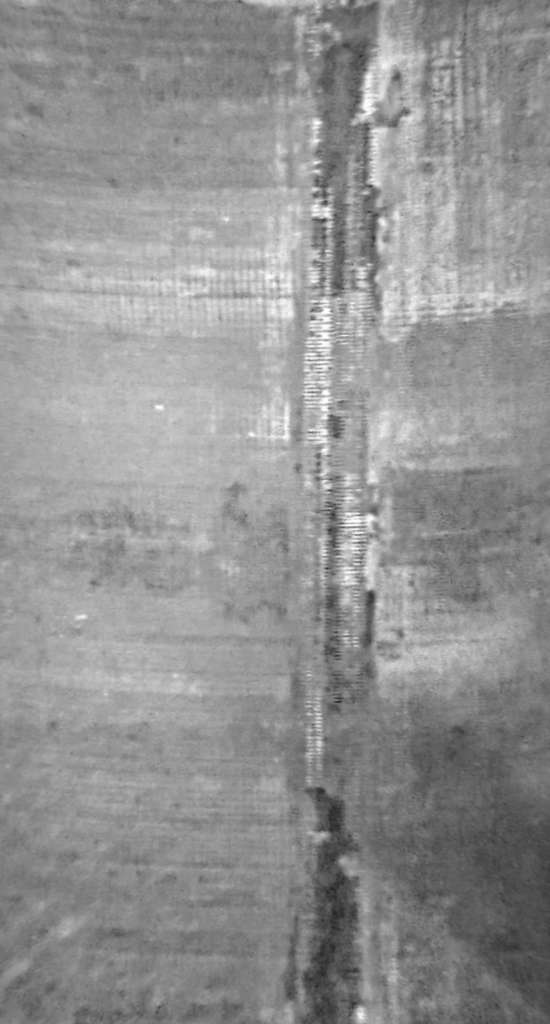splice: (293, 2, 393, 1024)
